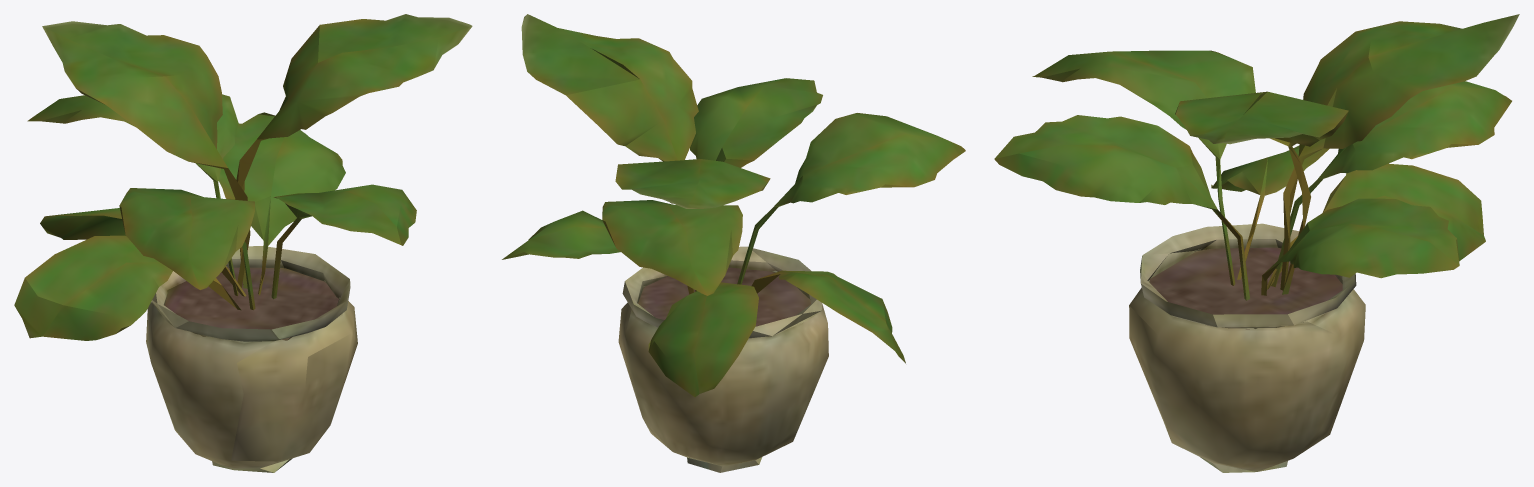
File: plant-small-c.lod1.glb
3 renders of one model, left to right at view 1: azimuth 30°, elevation 25°; view 2: azimuth 150°, elevation 25°; view 3: azimuth 270°, elevation 25°, orthographic. The views are drawn at different scales.
Parts seen in each view (by area): view 1: plant-small-c; view 2: plant-small-c; view 3: plant-small-c.
Part boxes in pixels (left/top/right/bottom): plant-small-c: left=14, top=14, right=472, bottom=472; plant-small-c: left=502, top=14, right=965, bottom=472; plant-small-c: left=994, top=14, right=1519, bottom=472.
Size of the model in its own units: 0.4385 by 0.3907 by 0.4367.
Materials: 1 (1 with a texture image).
